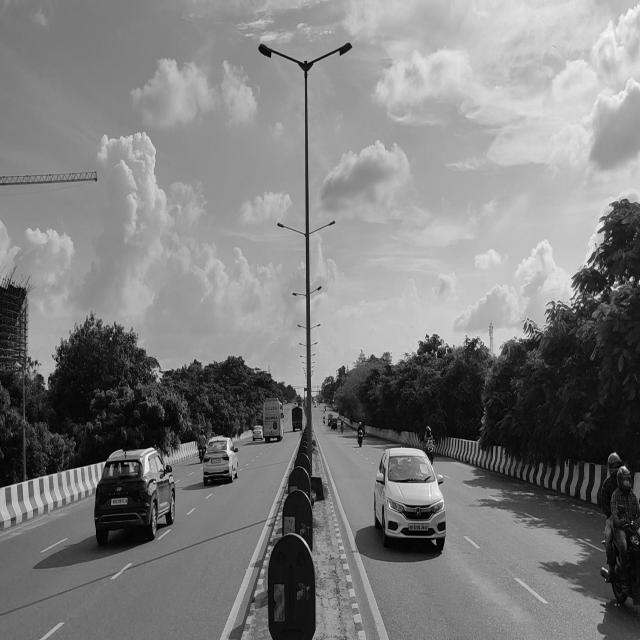bike: (577, 430, 640, 614)
car: (76, 446, 200, 561), (371, 451, 463, 562), (200, 432, 240, 493)
license-plate: (400, 520, 436, 541)
truck: (256, 367, 296, 464)
